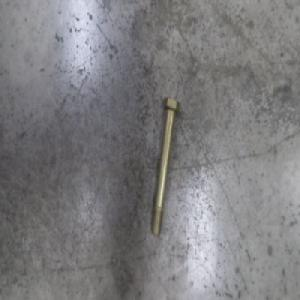Bolt: (150, 94, 181, 239)
